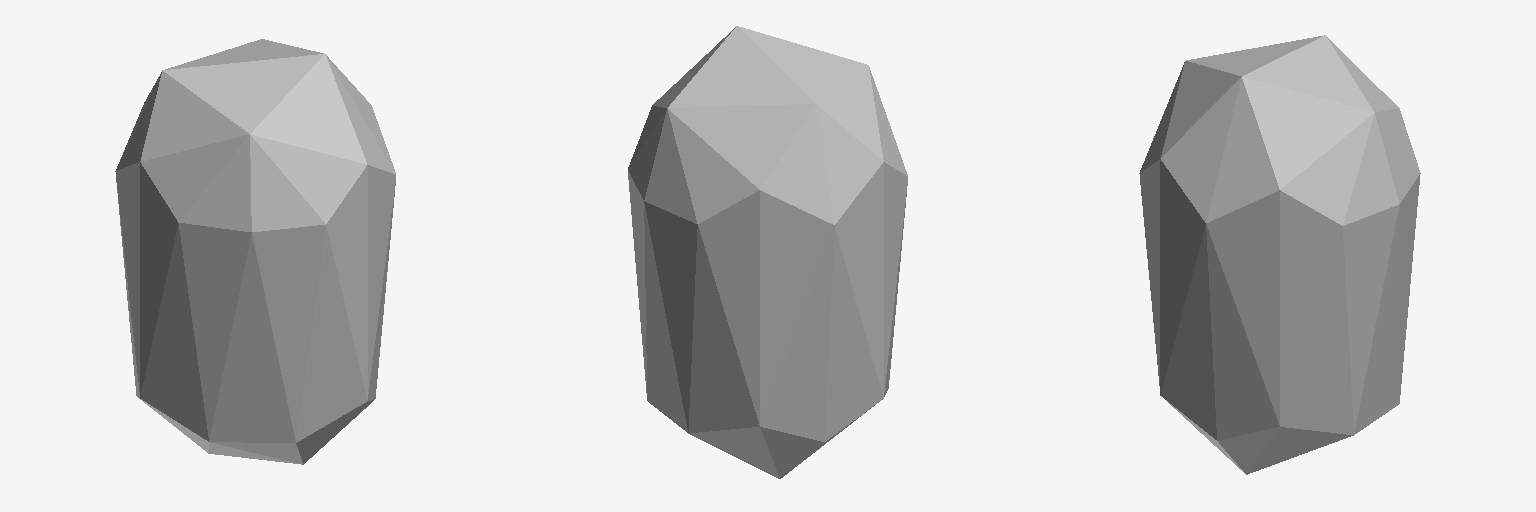
File: bruteBack.obj
The picture shows the model from 3 angles: view 1: azimuth 30°, elevation 25°; view 2: azimuth 150°, elevation 25°; view 3: azimuth 270°, elevation 25°; orthographic projection.
Parts seen in each view (by area): view 1: Object.1; view 2: Object.1; view 3: Object.1.
Boxes of the visible parts, <box> form: Object.1: <box>115,39,395,464</box>; Object.1: <box>628,26,907,478</box>; Object.1: <box>1139,35,1420,474</box>.
Size of the model in its own units: 48.31 by 81.31 by 50.8.